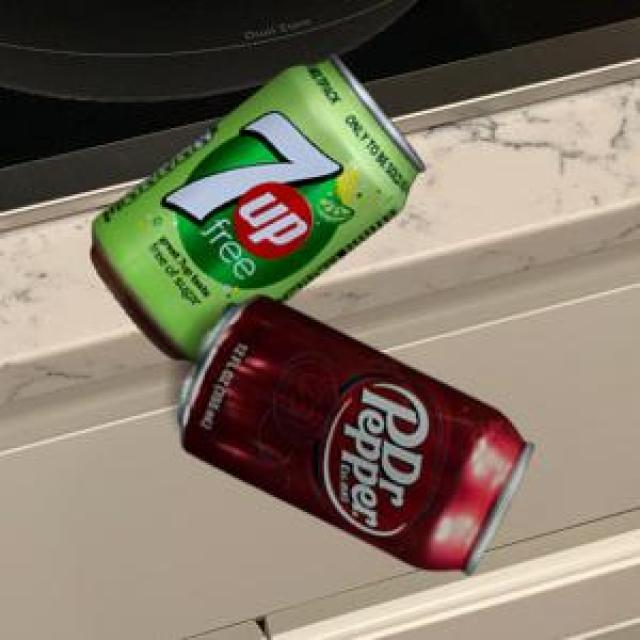Can: (89, 52, 421, 359), (176, 293, 530, 571)
